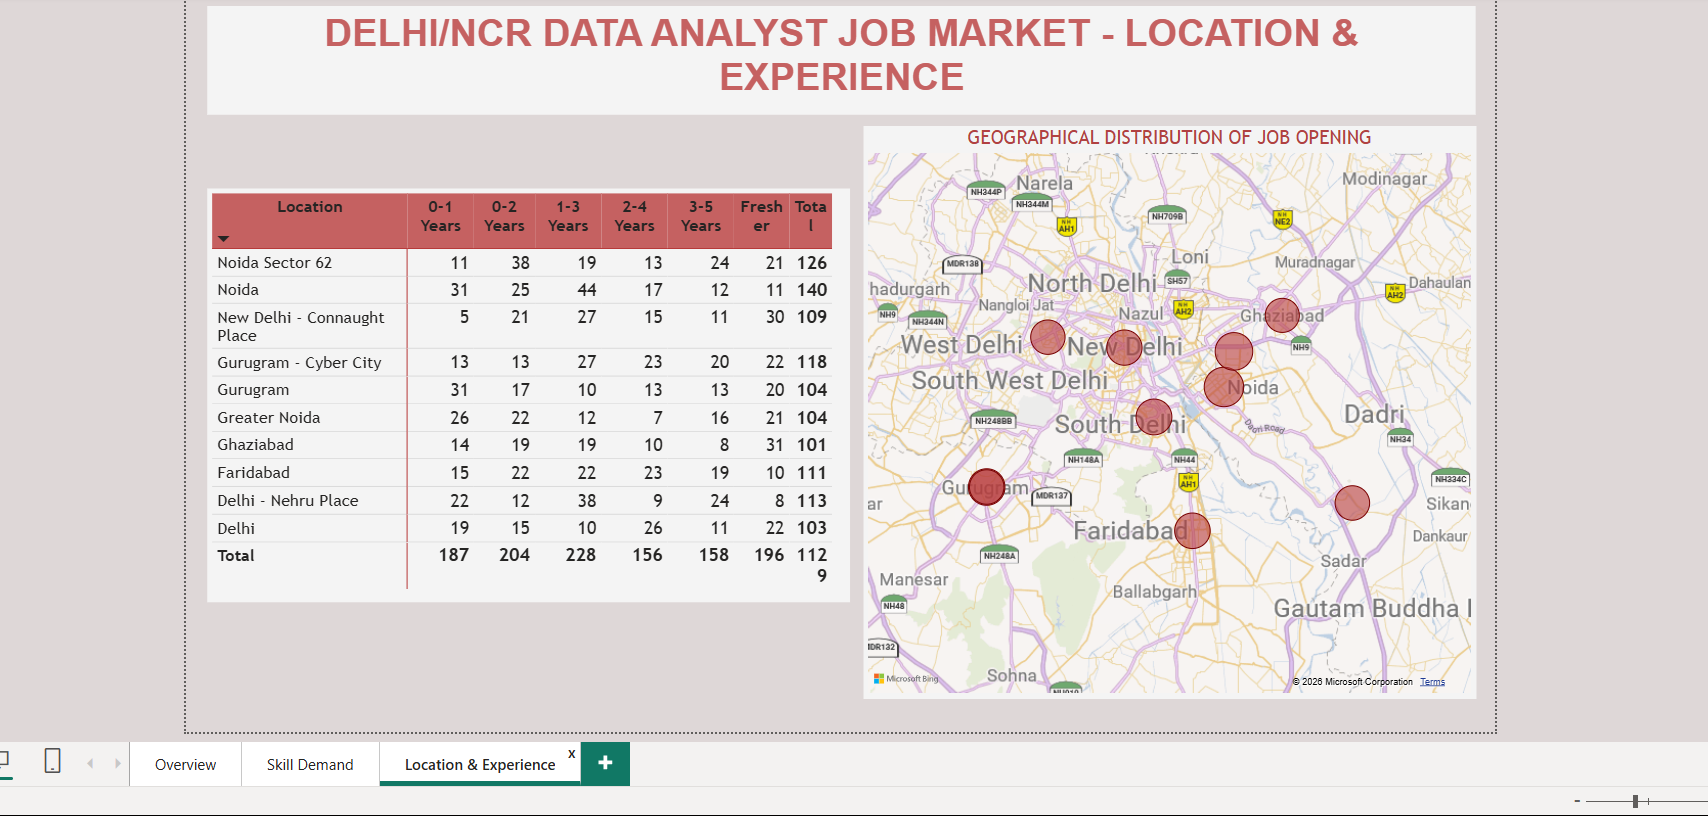

The dashboard page shown, as its layout file describes it:
{"tool":"powerbi","page":{"name":"Location & Experience","canvas":[1280,720],"ordinal":2},"visuals":[{"type":"pivotTable","fields":{"Rows":["Job Postings.Location"],"Columns":["Job Postings.Experience Required"],"Values":["Job Postings.Total Openings"]},"box":[20.8,188.3,628.5,404.8],"z":0},{"type":"textbox","box":[20.8,9.8,1241.2,106.4],"z":1000},{"type":"map","title":"GEOGRAPHICAL DISTRIBUTION OF JOB OPENING","fields":{"Category":["Job Postings.Location"],"Size":["Job Postings.Total Openings"]},"box":[662.8,127.2,599.2,560.1],"z":2000}]}

Visuals, with their boxes on the page's 1280x720 design canvas (x1, y1, x2, y2). These are canvas units, not pixel positions in the 1708x816 screenshot, which may show the page scaled, cropped or inside an application window:
pivotTable - Job Postings.Location x Job Postings.Experience Required: <box>21,188,649,593</box>
textbox: <box>21,10,1262,116</box>
"GEOGRAPHICAL DISTRIBUTION OF JOB OPENING" map: <box>663,127,1262,687</box>
